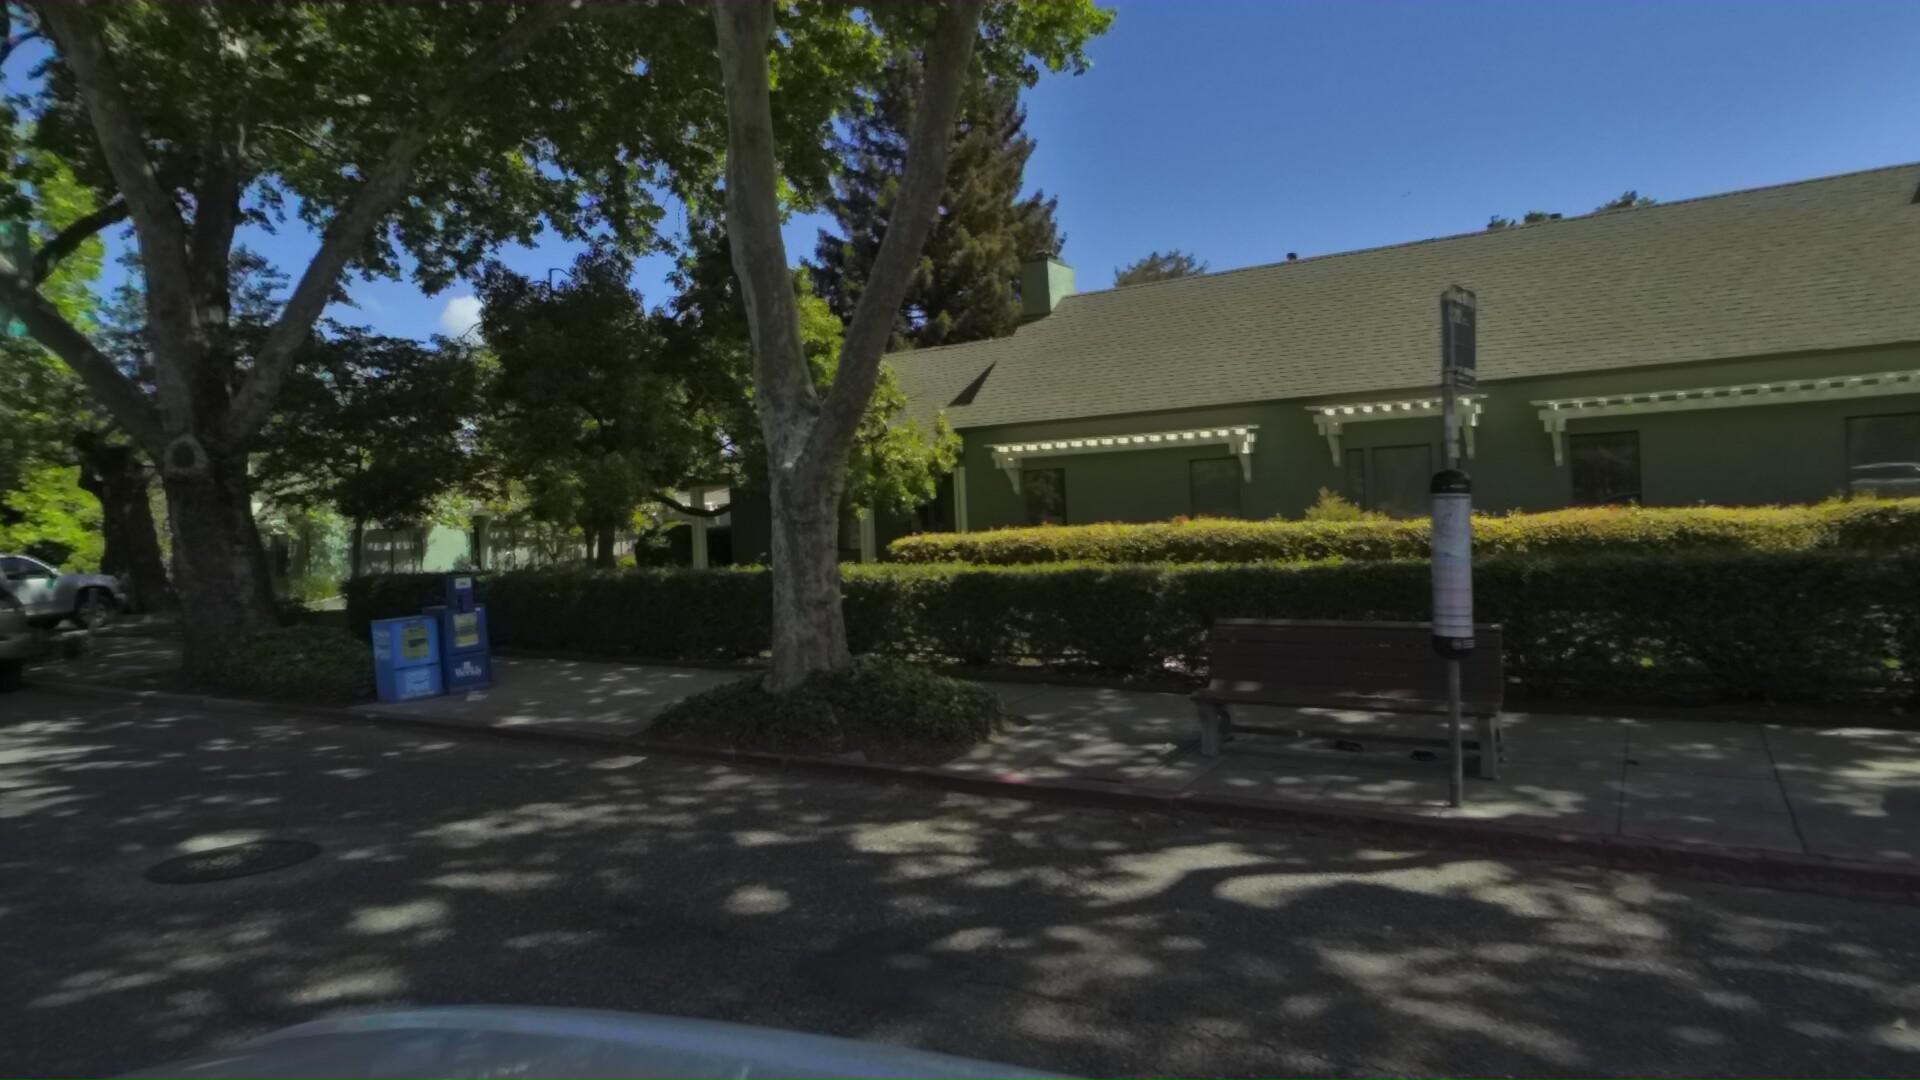car: (0, 531, 157, 661), (0, 543, 66, 719)
